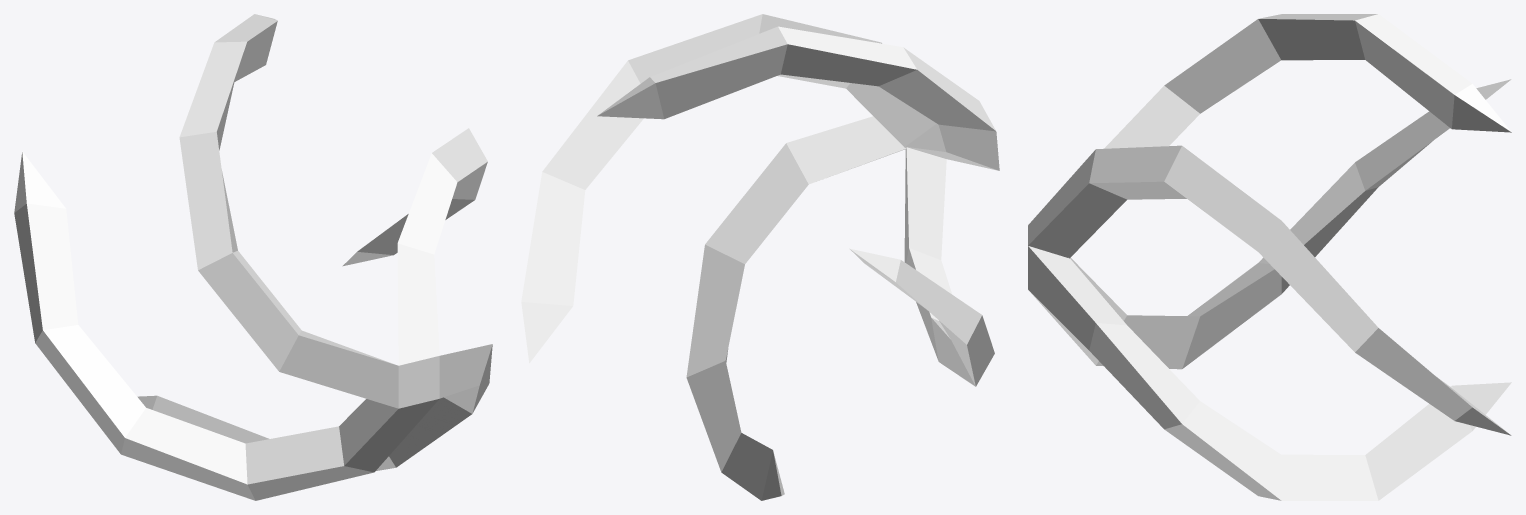
File: spell_projectile_air_cc.obj
3 views of the same model, side by side, from view 1: azimuth 30°, elevation 25°; view 2: azimuth 150°, elevation 25°; view 3: azimuth 270°, elevation 25° (orthographic). The views are drawn at different scales.
Visible parts, largest first — view 1: SPELL_PROJECTILE_AIR_CLOCKWISE_Plane.003; view 2: SPELL_PROJECTILE_AIR_CLOCKWISE_Plane.003; view 3: SPELL_PROJECTILE_AIR_CLOCKWISE_Plane.003.
Boxes of the visible parts, x1,y1,x2,y2 form: SPELL_PROJECTILE_AIR_CLOCKWISE_Plane.003: [14, 14, 492, 500]; SPELL_PROJECTILE_AIR_CLOCKWISE_Plane.003: [521, 14, 999, 500]; SPELL_PROJECTILE_AIR_CLOCKWISE_Plane.003: [1028, 14, 1511, 500].
Bounding box in the file's own units: 0.6585 × 0.6585 × 0.625.
